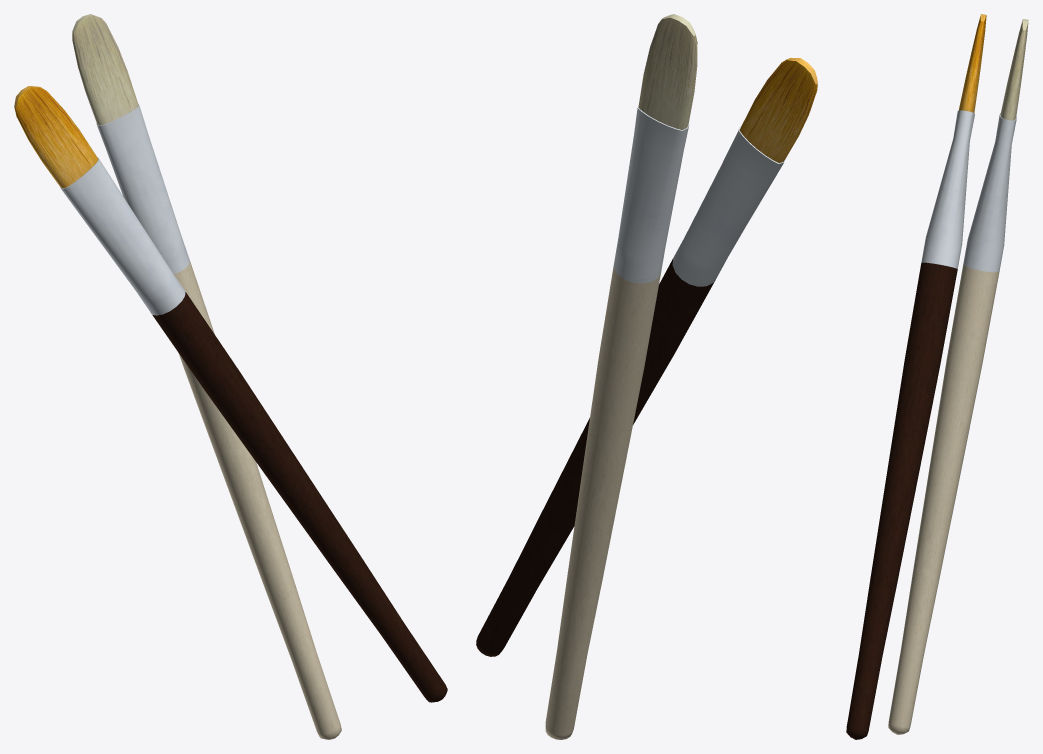
3 views of the same model, side by side, from view 1: azimuth 30°, elevation 25°; view 2: azimuth 150°, elevation 25°; view 3: azimuth 270°, elevation 25° (orthographic). The views are drawn at different scales.
Parts seen in each view (by area): view 1: PaintBrush3_PaintBrush3_0, PaintBrush3v2_PaintBrush3v2_0; view 2: PaintBrush3v2_PaintBrush3v2_0, PaintBrush3_PaintBrush3_0; view 3: PaintBrush3_PaintBrush3_0, PaintBrush3v2_PaintBrush3v2_0.
Boxes of the visible parts, bbox=[...] form: PaintBrush3_PaintBrush3_0: bbox=[14, 86, 447, 702]; PaintBrush3v2_PaintBrush3v2_0: bbox=[72, 14, 341, 739]; PaintBrush3v2_PaintBrush3v2_0: bbox=[545, 14, 697, 739]; PaintBrush3_PaintBrush3_0: bbox=[476, 58, 817, 656]; PaintBrush3_PaintBrush3_0: bbox=[846, 14, 986, 739]; PaintBrush3v2_PaintBrush3v2_0: bbox=[888, 19, 1028, 734].
Bounding box in the file's own units: 0.1117 × 0.2108 × 0.0544.
2 materials, 2 textured.
